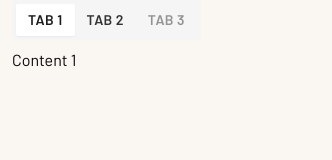
Scenario: Tabs Components › Keyboard Navigation › should activate tab when clicked
Click the tab "Tab 2" at (105, 20), box [74,4,136,36]
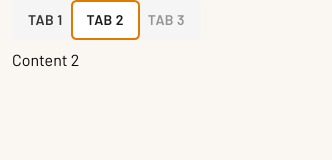
Result: the text "Content 2" is shown at [12,50,79,69]
